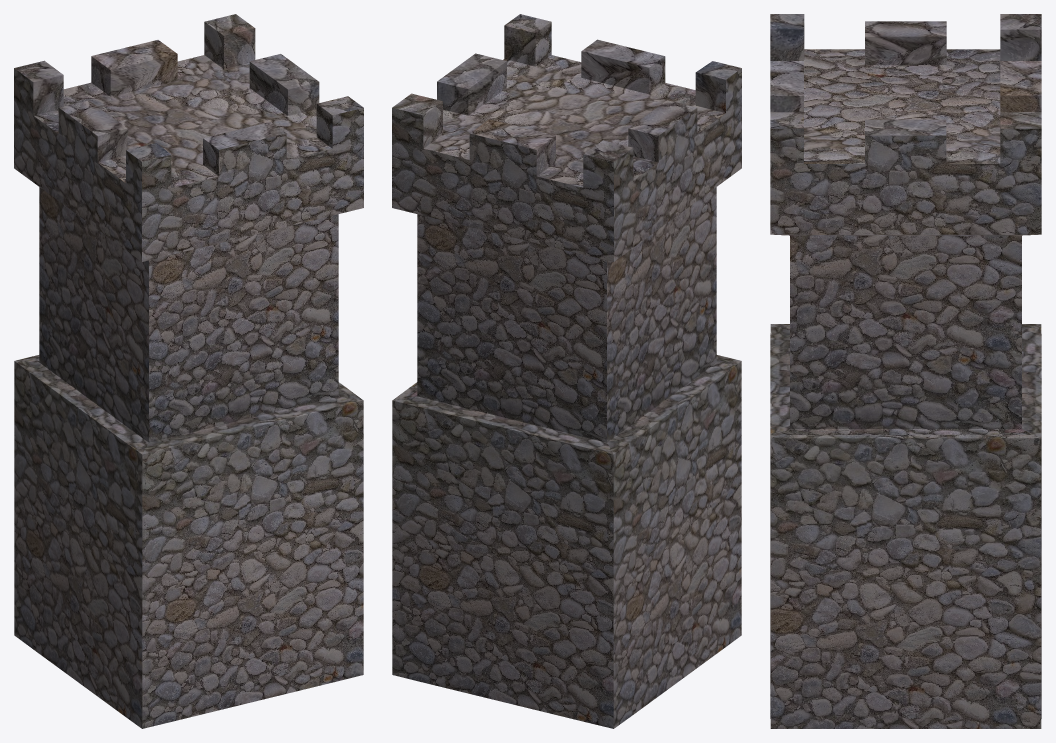
File: tower2.glb
3 views of the same model, side by side, from view 1: azimuth 30°, elevation 25°; view 2: azimuth 150°, elevation 25°; view 3: azimuth 270°, elevation 25° (orthographic). The views are drawn at different scales.
Visible parts, largest first — view 1: Cube; view 2: Cube; view 3: Cube.
Part boxes in pixels (bbox=[...]): Cube: bbox=[14, 14, 363, 728]; Cube: bbox=[392, 14, 741, 728]; Cube: bbox=[770, 14, 1041, 728].
Bounding box in the file's own units: 2 × 4.89 × 2.
1 material, 1 textured.
